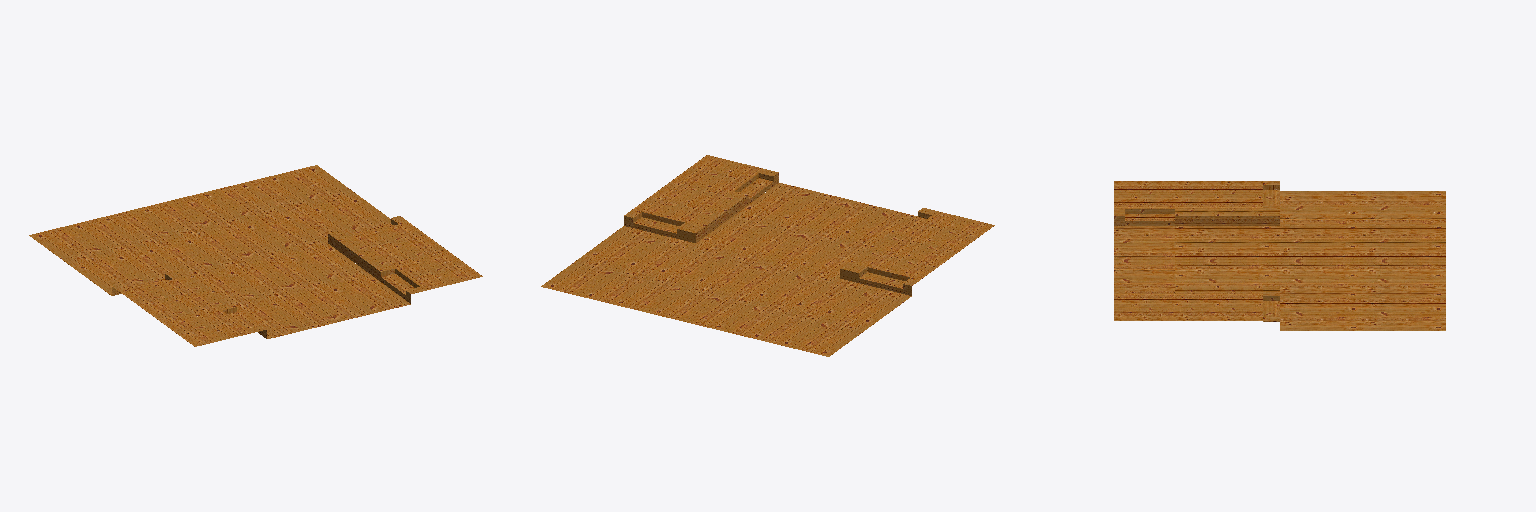
3 renders of one model, left to right at view 1: azimuth 30°, elevation 25°; view 2: azimuth 150°, elevation 25°; view 3: azimuth 270°, elevation 25°, orthographic.
Size of the model in its own units: 30 by 1 by 30.
1 materials, 1 textured.